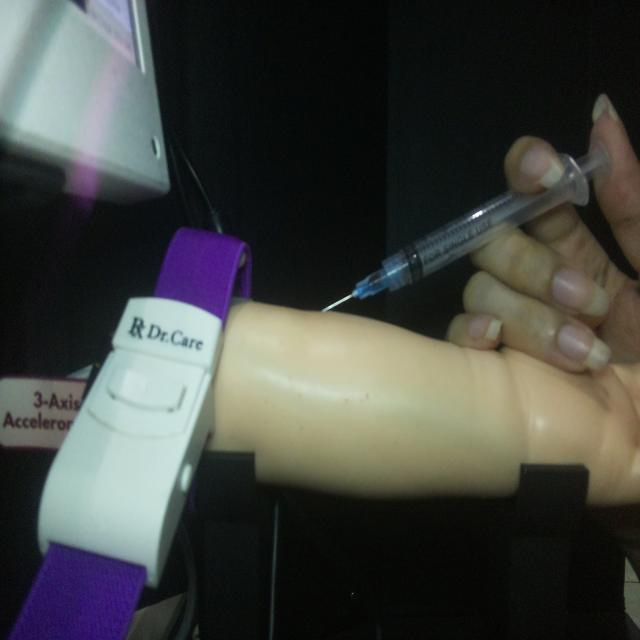18 degrees: (319, 136, 612, 315)
